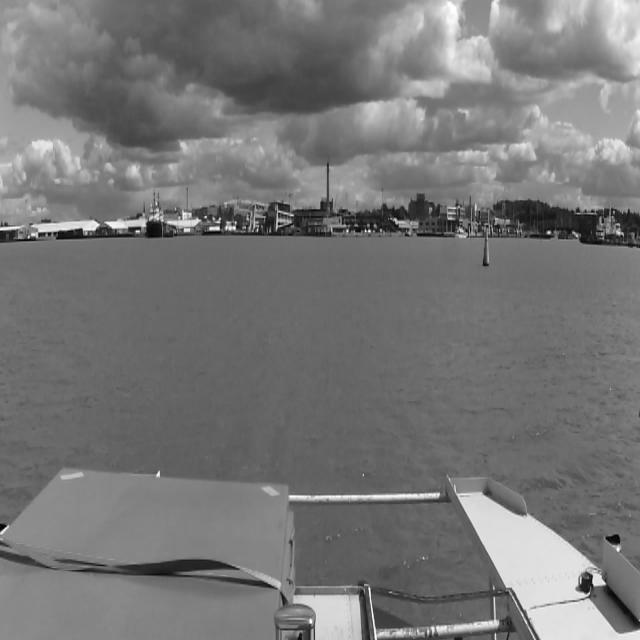buoy: (484, 230, 489, 266)
ship: (580, 203, 632, 248), (147, 191, 163, 238), (454, 223, 468, 238)
